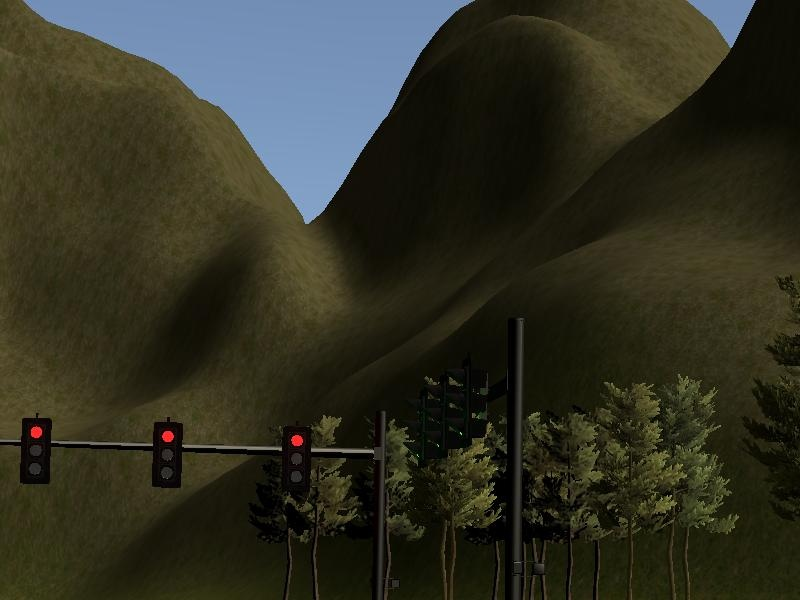RED: (282, 424, 312, 490), (151, 421, 181, 487), (21, 416, 51, 482)
